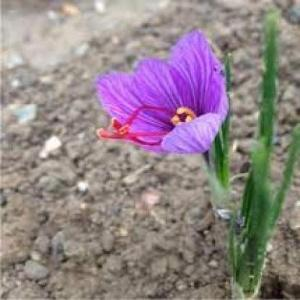Saffron: (96, 29, 230, 154)
